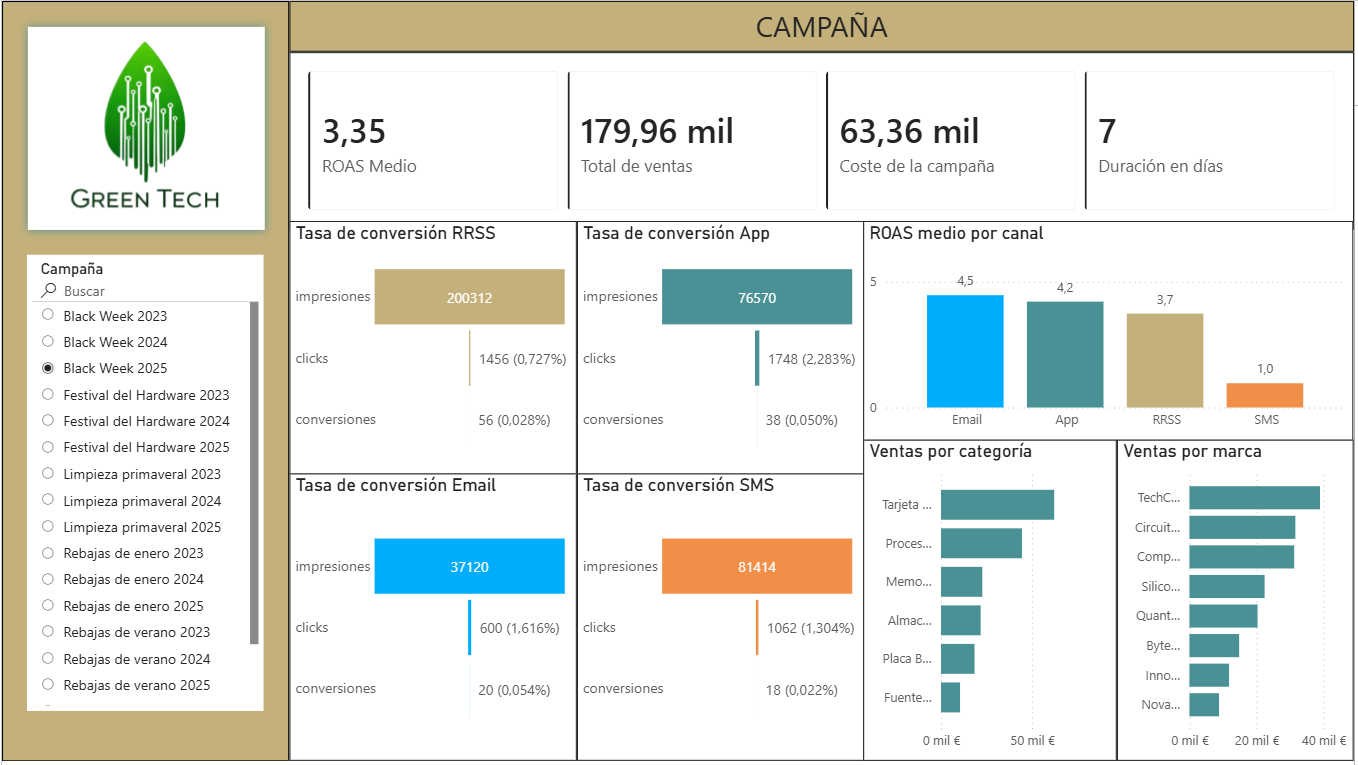

The dashboard page shown, as its layout file describes it:
{"tool":"powerbi","page":{"name":"Campaña","canvas":[1280,720],"ordinal":1},"visuals":[{"type":"shape","box":[0,0,272,720],"z":0},{"type":"textbox","box":[272,0,1008,48],"z":1000},{"type":"shape","box":[16,16,240,208],"z":2000},{"type":"actionButton","box":[48,32,176,176],"z":3000},{"type":"slicer","fields":{"Values":["campanas.nombre"]},"box":[24,240,224,432],"z":4000},{"type":"cardVisual","fields":{"Data":["Avg(campanasCanal.ROAS)","Sum(campanas.total_ventas)","Sum(campanas.coste)","Sum(campanas.duracion)"]},"box":[272,48,1008,168],"z":5000},{"type":"funnel","title":"Tasa de conversión RRSS","fields":{"Category":["CampañasCanalEtapa.etapa"],"Y":["Sum(CampañasCanalEtapa.valor)"]},"box":[272,208,272,240],"z":6000},{"type":"funnel","title":"Tasa de conversión App","fields":{"Category":["CampañasCanalEtapa.etapa"],"Y":["Sum(CampañasCanalEtapa.valor)"]},"box":[544,208,272,240],"z":7000},{"type":"funnel","title":"Tasa de conversión Email","fields":{"Category":["CampañasCanalEtapa.etapa"],"Y":["Sum(CampañasCanalEtapa.valor)"]},"box":[272,448,272,272],"z":8000},{"type":"funnel","title":"Tasa de conversión SMS","fields":{"Category":["CampañasCanalEtapa.etapa"],"Y":["Sum(CampañasCanalEtapa.valor)"]},"box":[544,448,272,272],"z":9000},{"type":"columnChart","title":"ROAS medio por canal","fields":{"Category":["canales.nombre"],"Y":["Avg(campanasCanal.ROAS)"]},"box":[816,208,464,208],"z":10000},{"type":"barChart","title":"Ventas por categoría","fields":{"Category":["categorias.nombre"],"Y":["Sum(lineas_venta.precio_venta_total)"]},"box":[816,416,240,304],"z":11000},{"type":"barChart","title":"Ventas por marca","fields":{"Category":["marcas.nombre"],"Y":["Sum(lineas_venta.precio_venta_total)"]},"box":[1056,416,224,304],"z":12000}]}

Visuals, with their boxes in screenshot pixels (x1, y1, x2, y2), scaled from the page's 1280x720 canvas onto the 1358x765 screenshot:
shape: select_region(0, 0, 289, 764)
textbox: select_region(289, 0, 1357, 51)
shape: select_region(17, 17, 272, 238)
actionButton: select_region(51, 34, 238, 221)
slicer - campanas.nombre: select_region(25, 255, 263, 714)
cardVisual - Avg(campanasCanal.ROAS) x Sum(campanas.total_ventas): select_region(289, 51, 1357, 230)
"Tasa de conversión RRSS" funnel: select_region(289, 221, 577, 476)
"Tasa de conversión App" funnel: select_region(577, 221, 866, 476)
"Tasa de conversión Email" funnel: select_region(289, 476, 577, 764)
"Tasa de conversión SMS" funnel: select_region(577, 476, 866, 764)
"ROAS medio por canal" columnChart: select_region(866, 221, 1357, 442)
"Ventas por categoría" barChart: select_region(866, 442, 1120, 764)
"Ventas por marca" barChart: select_region(1120, 442, 1357, 764)
